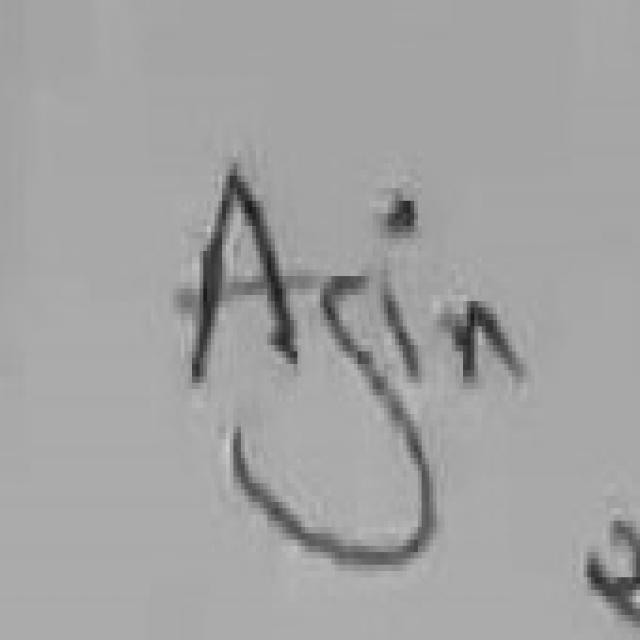A: (192, 169, 301, 383)
i: (384, 289, 422, 376), (388, 195, 418, 232)
n: (444, 301, 527, 383)
z: (281, 273, 437, 565)
